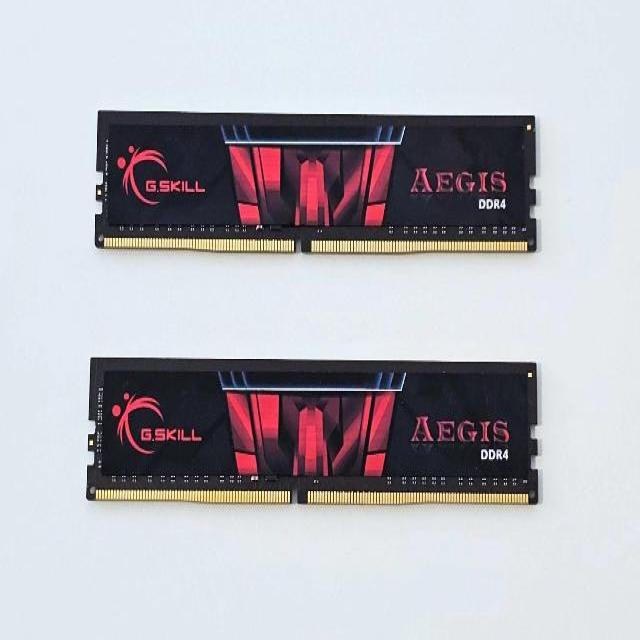RAM: (84, 356, 540, 508), (94, 109, 538, 256)
